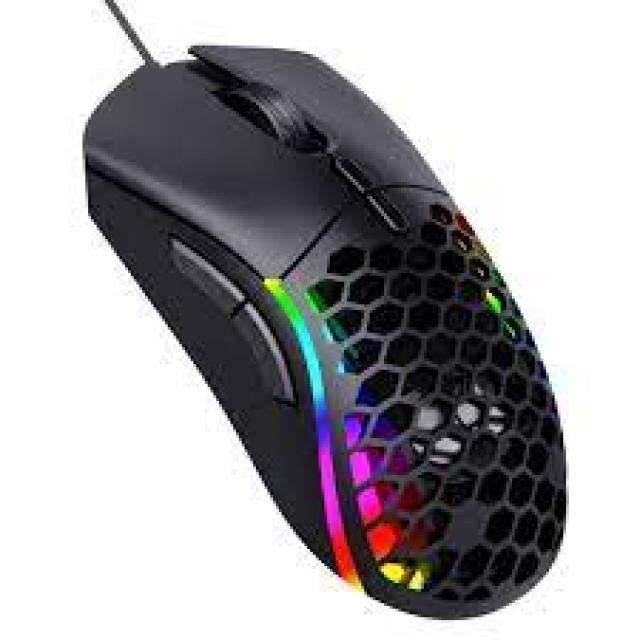mouse: (79, 24, 596, 573)
